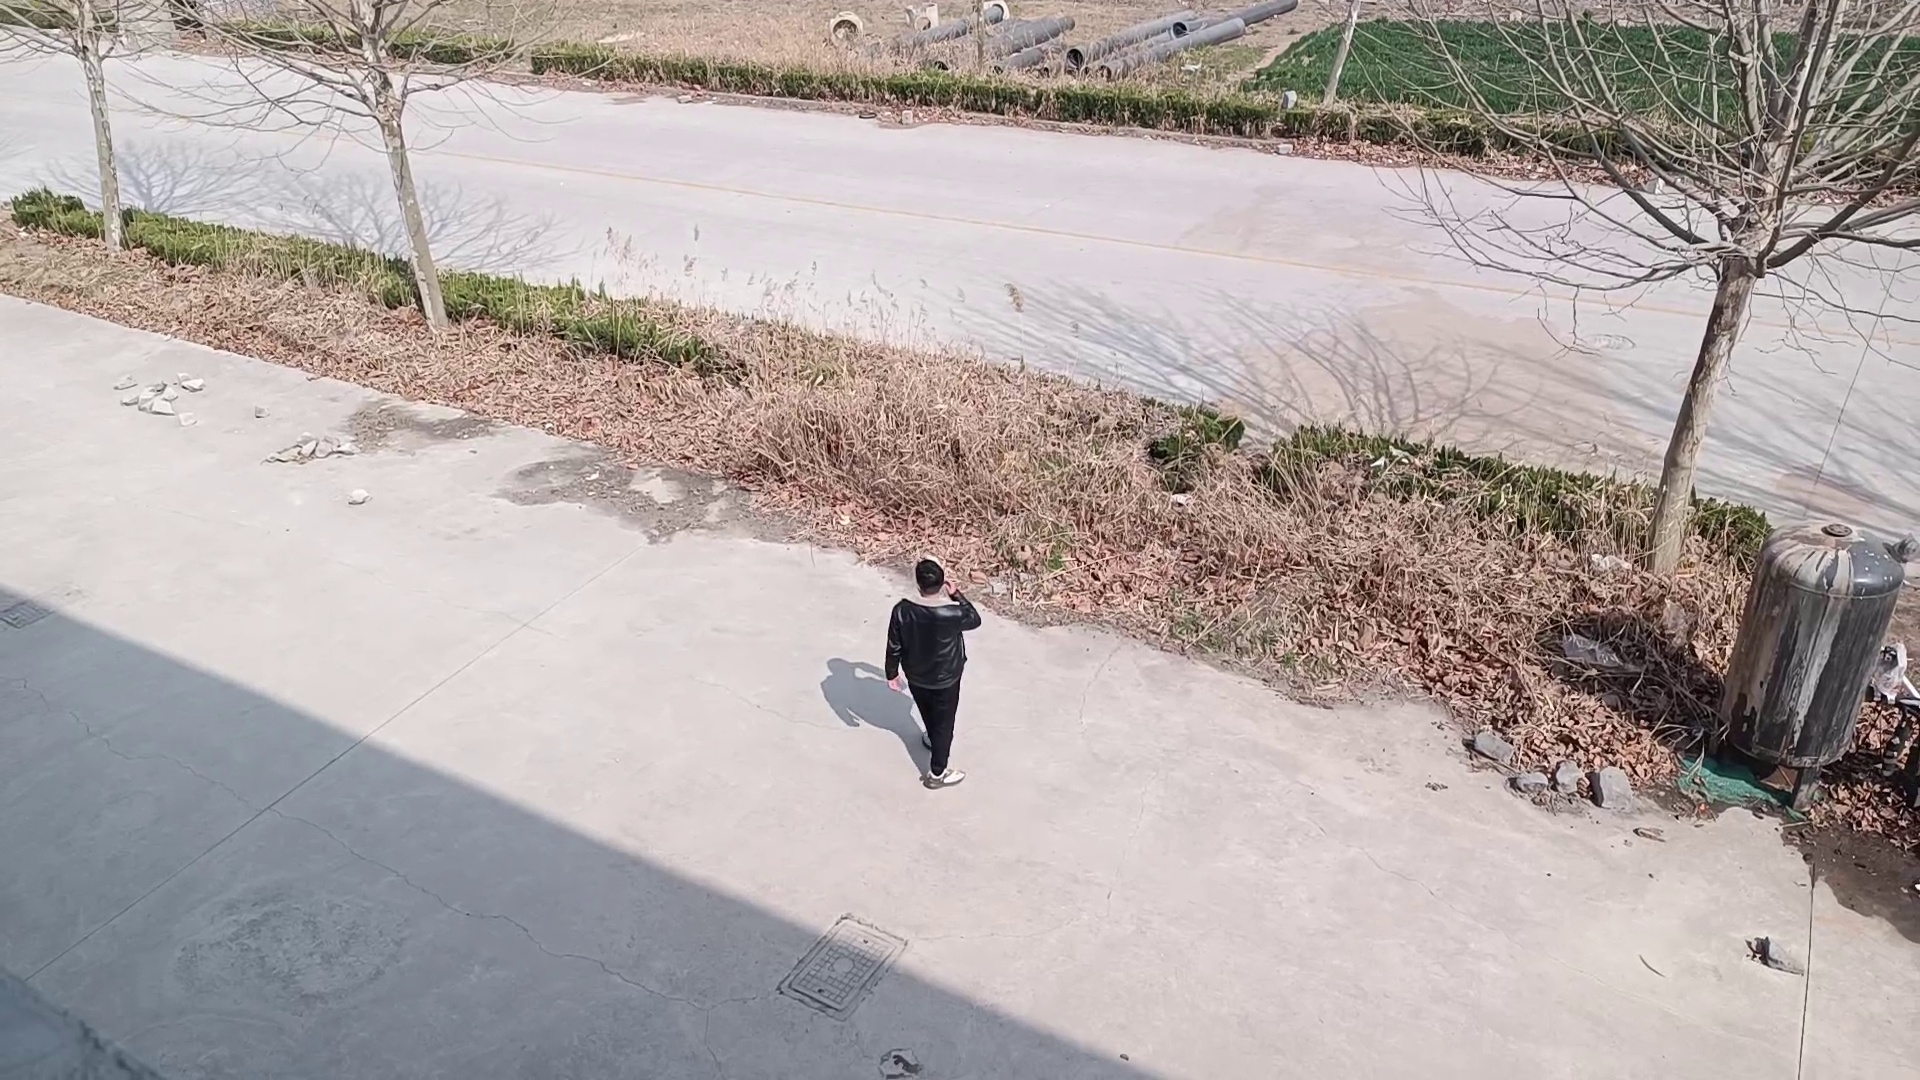phone: (913, 556, 963, 612)
